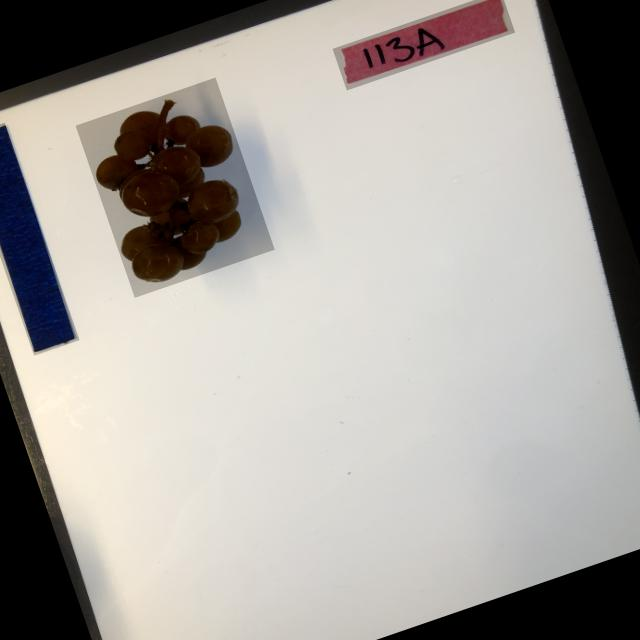grape_cluster: (76, 77, 274, 297)
index: (332, 0, 515, 90)
measure_label: (0, 122, 79, 355)
